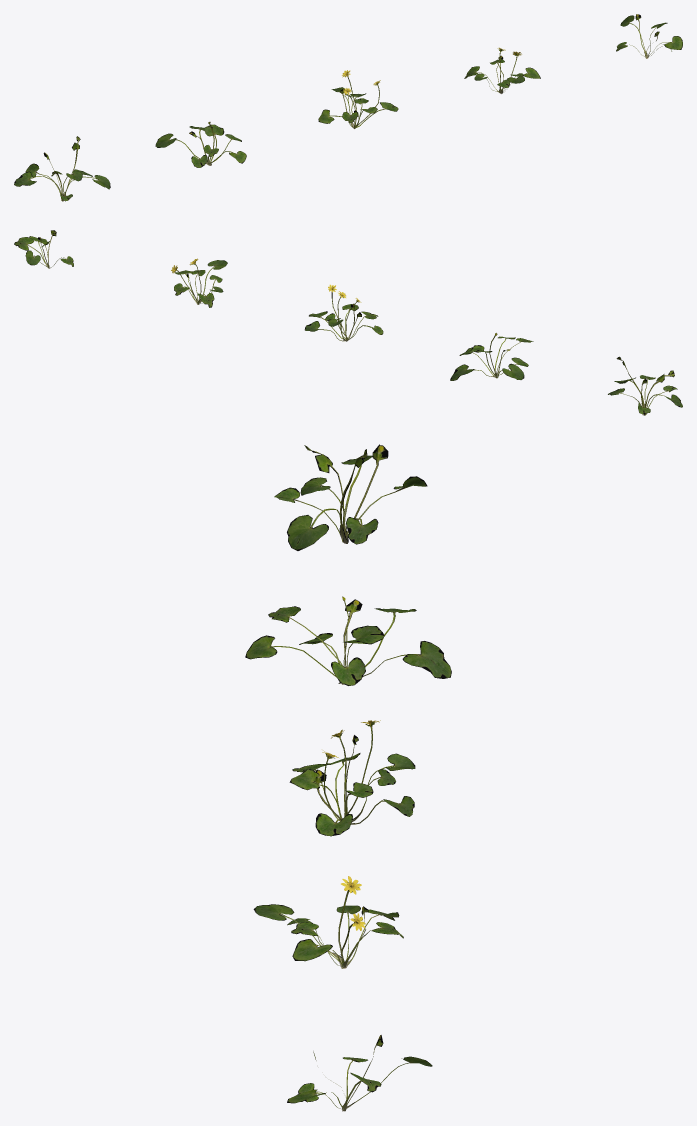
File: celandine_01_1k.gltf
The picture shows the model from 3 angles, top to bottom: view 1: azimuth 30°, elevation 25°; view 2: azimuth 150°, elevation 25°; view 3: azimuth 270°, elevation 25°; orthographic projection. The views are drawn at different scales.
Parts seen in each view (by area): view 1: celandine_01_b_LOD0, celandine_01_c_LOD0, celandine_01_a_LOD0, celandine_01_d_LOD0, celandine_01_e_LOD0; view 2: celandine_01_c_LOD0, celandine_01_b_LOD0, celandine_01_d_LOD0, celandine_01_a_LOD0, celandine_01_e_LOD0; view 3: celandine_01_b_LOD0, celandine_01_a_LOD0, celandine_01_c_LOD0, celandine_01_d_LOD0, celandine_01_e_LOD0.
Part boxes in pixels (x1,y1,x2,y2): celandine_01_b_LOD0: (155,122,246,167); celandine_01_c_LOD0: (318,70,398,128); celandine_01_a_LOD0: (14,136,110,201); celandine_01_d_LOD0: (464,47,540,93); celandine_01_e_LOD0: (616,14,682,58); celandine_01_c_LOD0: (304,284,383,341); celandine_01_b_LOD0: (450,333,533,380); celandine_01_d_LOD0: (171,258,227,307); celandine_01_a_LOD0: (608,356,682,415); celandine_01_e_LOD0: (14,230,73,268); celandine_01_b_LOD0: (245,596,451,685); celandine_01_a_LOD0: (274,444,427,550); celandine_01_c_LOD0: (289,720,415,836); celandine_01_d_LOD0: (253,876,403,968); celandine_01_e_LOD0: (287,1035,432,1111).
Bounding box in the file's own units: 2.24 × 0.1858 × 0.3067.
1 material, 1 textured.
